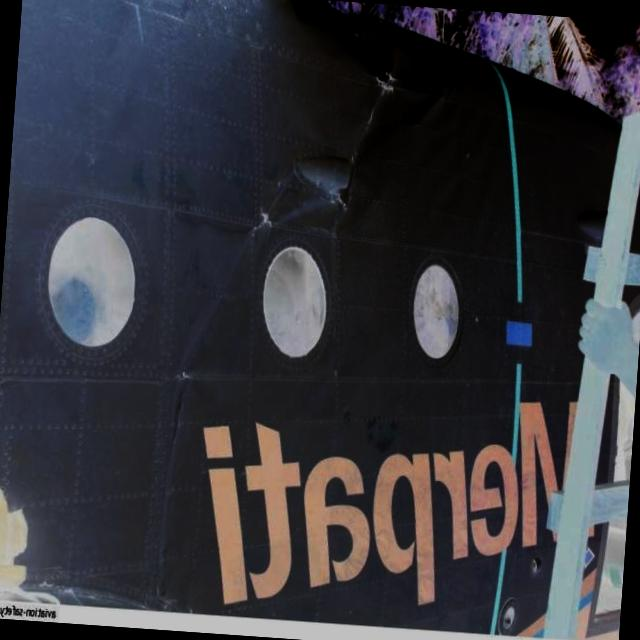crack: (364, 71, 402, 131), (250, 204, 274, 240)
dent: (334, 11, 408, 86), (402, 51, 448, 128)
